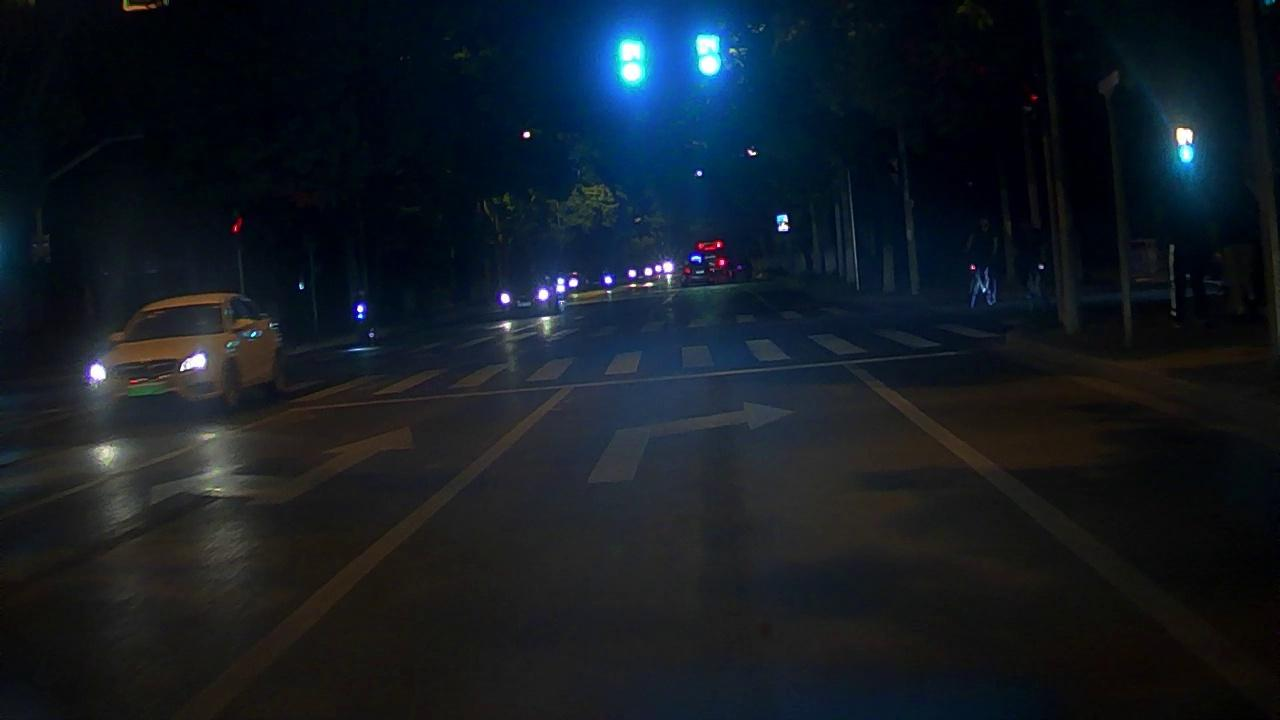traffic_light: (613, 34, 651, 91), (692, 30, 727, 81)
